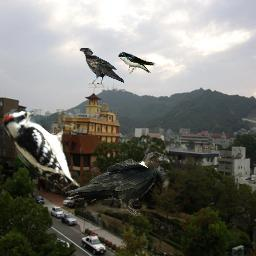Crow: (64, 151, 171, 217), (79, 47, 124, 88)
Swallow: (118, 52, 156, 74)
Woodpecker: (3, 109, 80, 193)
